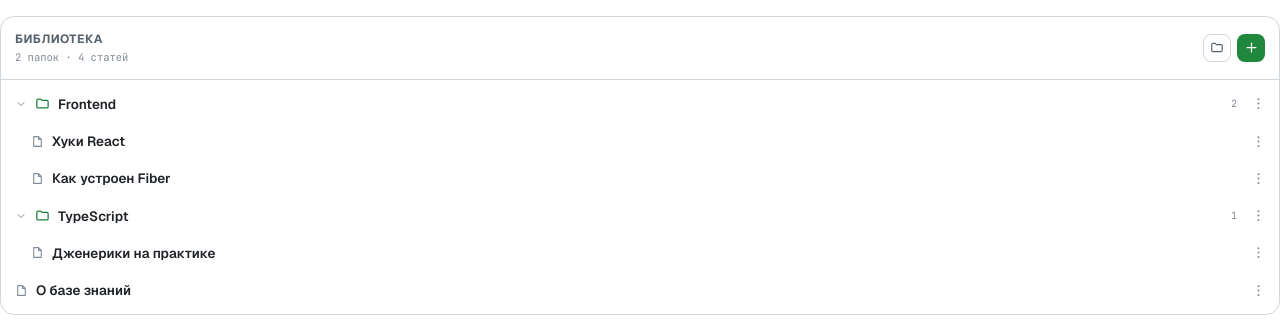
Scenario: KbLibrary › сворачивание папки прячет её статьи
Click the button "Frontend 2" at (87, 104), box [7,86,1243,122]
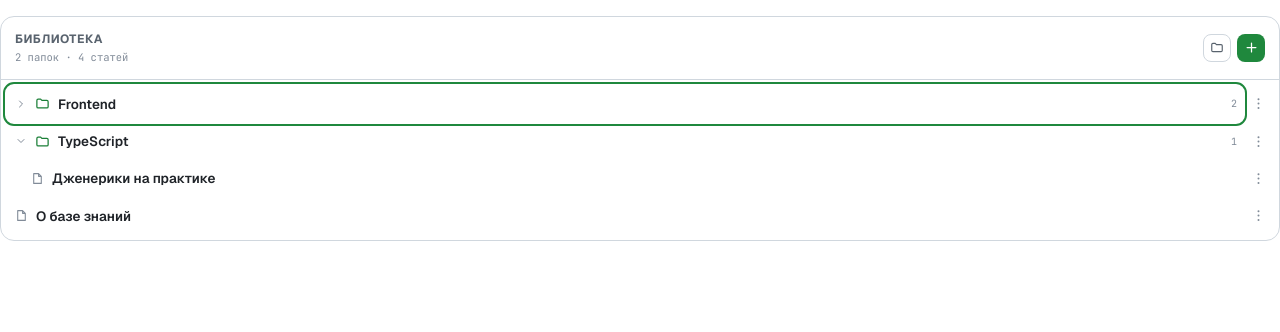
Expected: the button "Хуки React" is gone
